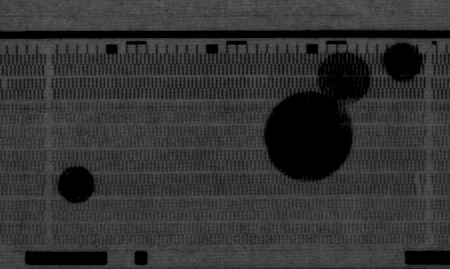Broken hole: (411, 172, 424, 195), (2, 79, 10, 91)
